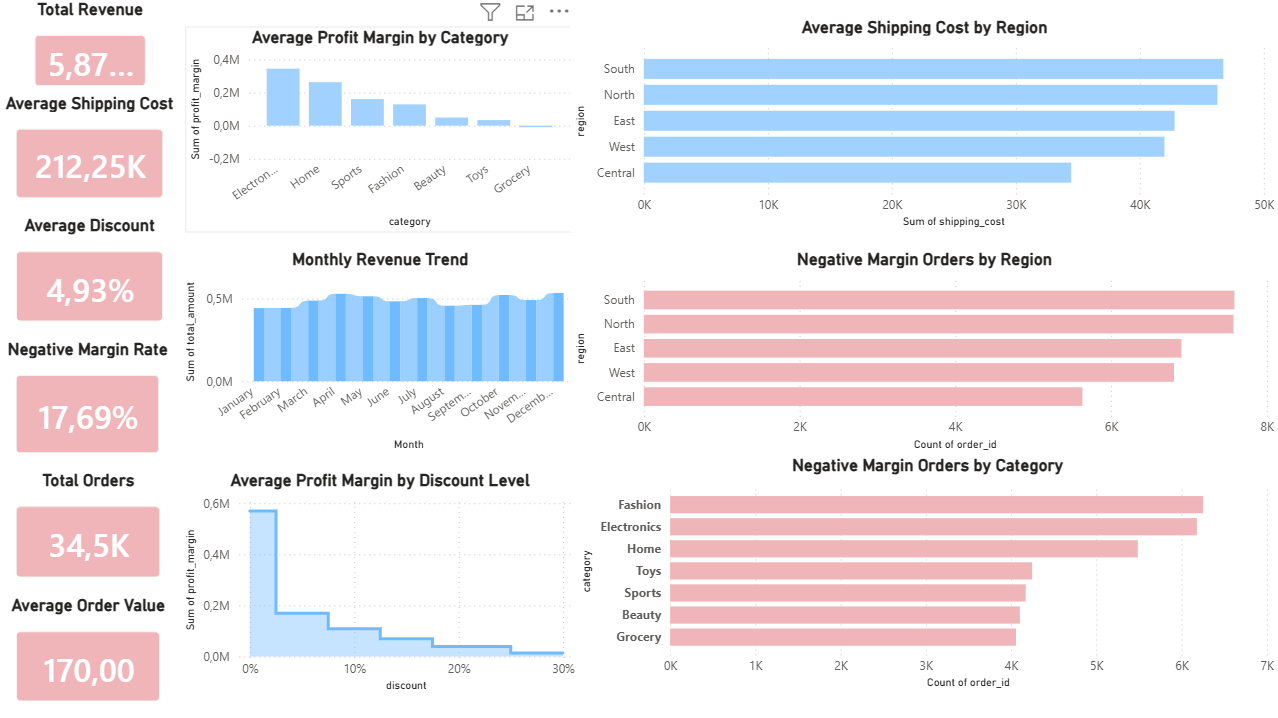

The page's visual inventory and layout, read from the dashboard file:
{"tool":"powerbi","page":{"name":"Page 1","canvas":[1280,720],"ordinal":0},"visuals":[{"type":"cardVisual","title":"Total Revenue","fields":{"Data":["Sum(clean_ecommerce_transactions.total_amount)"]},"box":[18.8,0,140,105],"z":0},{"type":"cardVisual","title":"Total Orders","fields":{"Data":["Count(clean_ecommerce_transactions.order_id)"]},"box":[0,471.2,178.8,125],"z":1},{"type":"cardVisual","title":"Average Order Value","fields":{"Data":["Avg(clean_ecommerce_transactions.total_amount)"]},"box":[0,596.2,178.8,123.8],"z":2},{"type":"cardVisual","title":"Average Discount","fields":{"Data":["Avg(clean_ecommerce_transactions.discount)"]},"box":[0,216.2,181.2,123.8],"z":3},{"type":"cardVisual","title":"Negative Margin Rate","fields":{"Data":["clean_ecommerce_transactions.Negative Margin Rate"]},"box":[0,340,177.5,131.2],"z":4},{"type":"cardVisual","title":"Average Shipping Cost","fields":{"Data":["Sum(clean_ecommerce_transactions.shipping_cost)"]},"box":[0,93.8,181.2,122.5],"z":5},{"type":"barChart","title":"Negative Margin Orders by Category","fields":{"Category":["clean_ecommerce_transactions.category"],"Y":["CountNonNull(clean_ecommerce_transactions.order_id)"]},"box":[178.8,471.2,702.5,238.8],"z":6},{"type":"columnChart","title":"Average Profit Margin by Category","fields":{"Category":["clean_ecommerce_transactions.category"],"Y":["Sum(clean_ecommerce_transactions.profit_margin)"]},"box":[881.2,10,390,206.2],"z":7},{"type":"ribbonChart","title":"Monthly Revenue Trend","fields":{"Y":["Sum(clean_ecommerce_transactions.total_amount)"],"Category":["clean_ecommerce_transactions.order_year_month.Variation.Date Hierarchy.Month"]},"box":[880,250,400,206.2],"z":8},{"type":"stackedAreaChart","title":"Average Profit Margin by Discount Level","fields":{"Category":["clean_ecommerce_transactions.discount"],"Y":["Sum(clean_ecommerce_transactions.profit_margin)"]},"box":[880,471.2,400,226.2],"z":9},{"type":"barChart","title":"Negative Margin Orders by Region","fields":{"Category":["clean_ecommerce_transactions.region"],"Y":["CountNonNull(clean_ecommerce_transactions.order_id)"]},"box":[178.8,250,708.8,206.2],"z":10},{"type":"barChart","title":"Average Shipping Cost by Region","fields":{"Category":["clean_ecommerce_transactions.region"],"Y":["Sum(clean_ecommerce_transactions.shipping_cost)"]},"box":[178.8,10,708.8,206.2],"z":11}]}

Visuals, with their boxes in screenshot pixels (x1, y1, x2, y2), scaled from the page's 1280x720 canvas onto the 1278x718 screenshot:
"Total Revenue" cardVisual: select_region(19, 0, 159, 105)
"Total Orders" cardVisual: select_region(0, 470, 179, 595)
"Average Order Value" cardVisual: select_region(0, 595, 179, 717)
"Average Discount" cardVisual: select_region(0, 216, 181, 339)
"Negative Margin Rate" cardVisual: select_region(0, 339, 177, 470)
"Average Shipping Cost" cardVisual: select_region(0, 94, 181, 216)
"Negative Margin Orders by Category" barChart: select_region(179, 470, 880, 708)
"Average Profit Margin by Category" columnChart: select_region(880, 10, 1269, 216)
"Monthly Revenue Trend" ribbonChart: select_region(879, 249, 1277, 455)
"Average Profit Margin by Discount Level" stackedAreaChart: select_region(879, 470, 1277, 695)
"Negative Margin Orders by Region" barChart: select_region(179, 249, 886, 455)
"Average Shipping Cost by Region" barChart: select_region(179, 10, 886, 216)
